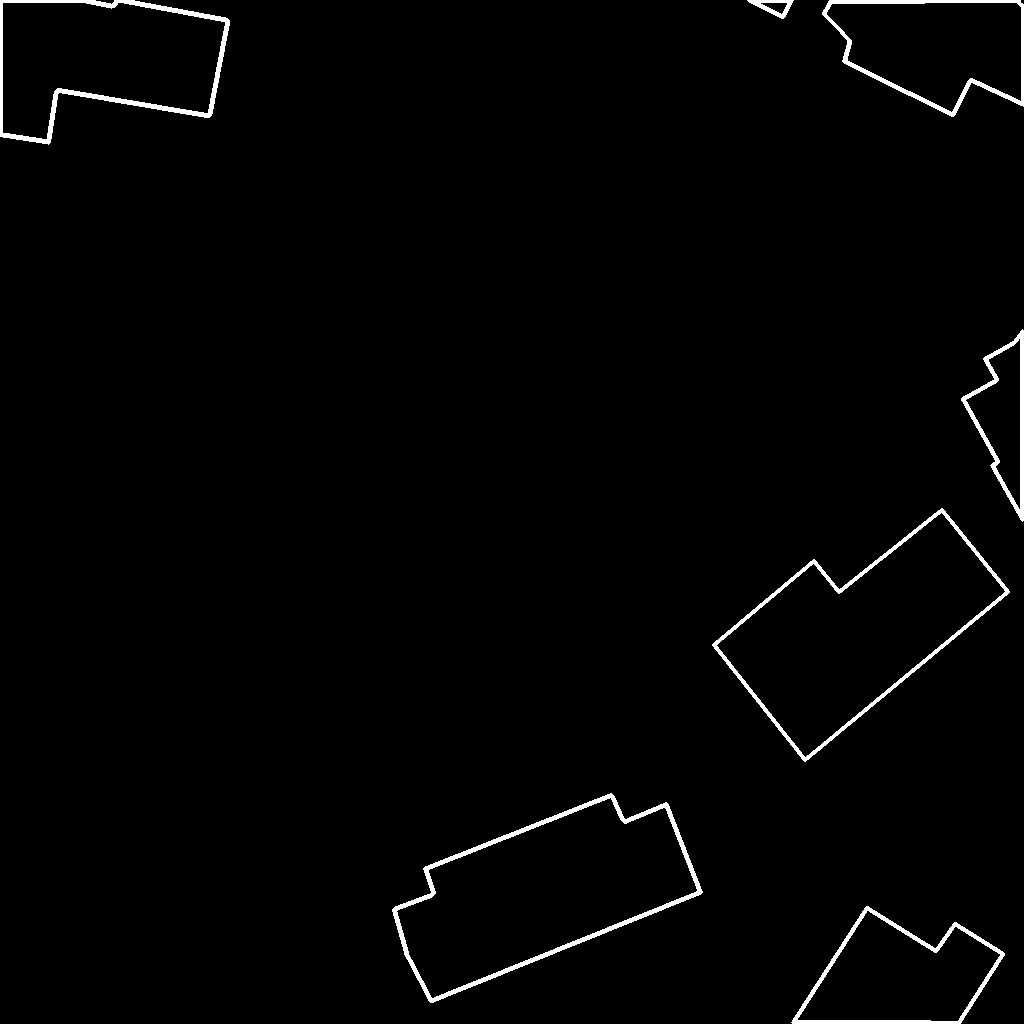building: (714, 510, 1009, 761), (394, 795, 702, 1002), (0, 0, 229, 143), (793, 908, 1004, 1024), (824, 0, 1024, 116), (963, 331, 1024, 521), (748, 0, 793, 18)
